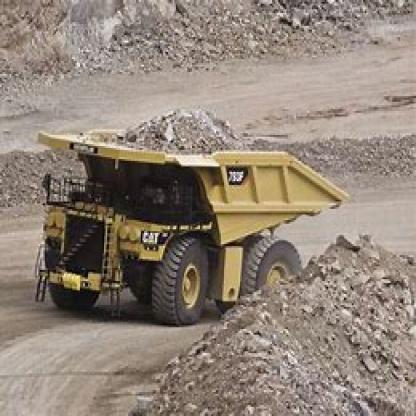dump_truck: (19, 102, 347, 318)
